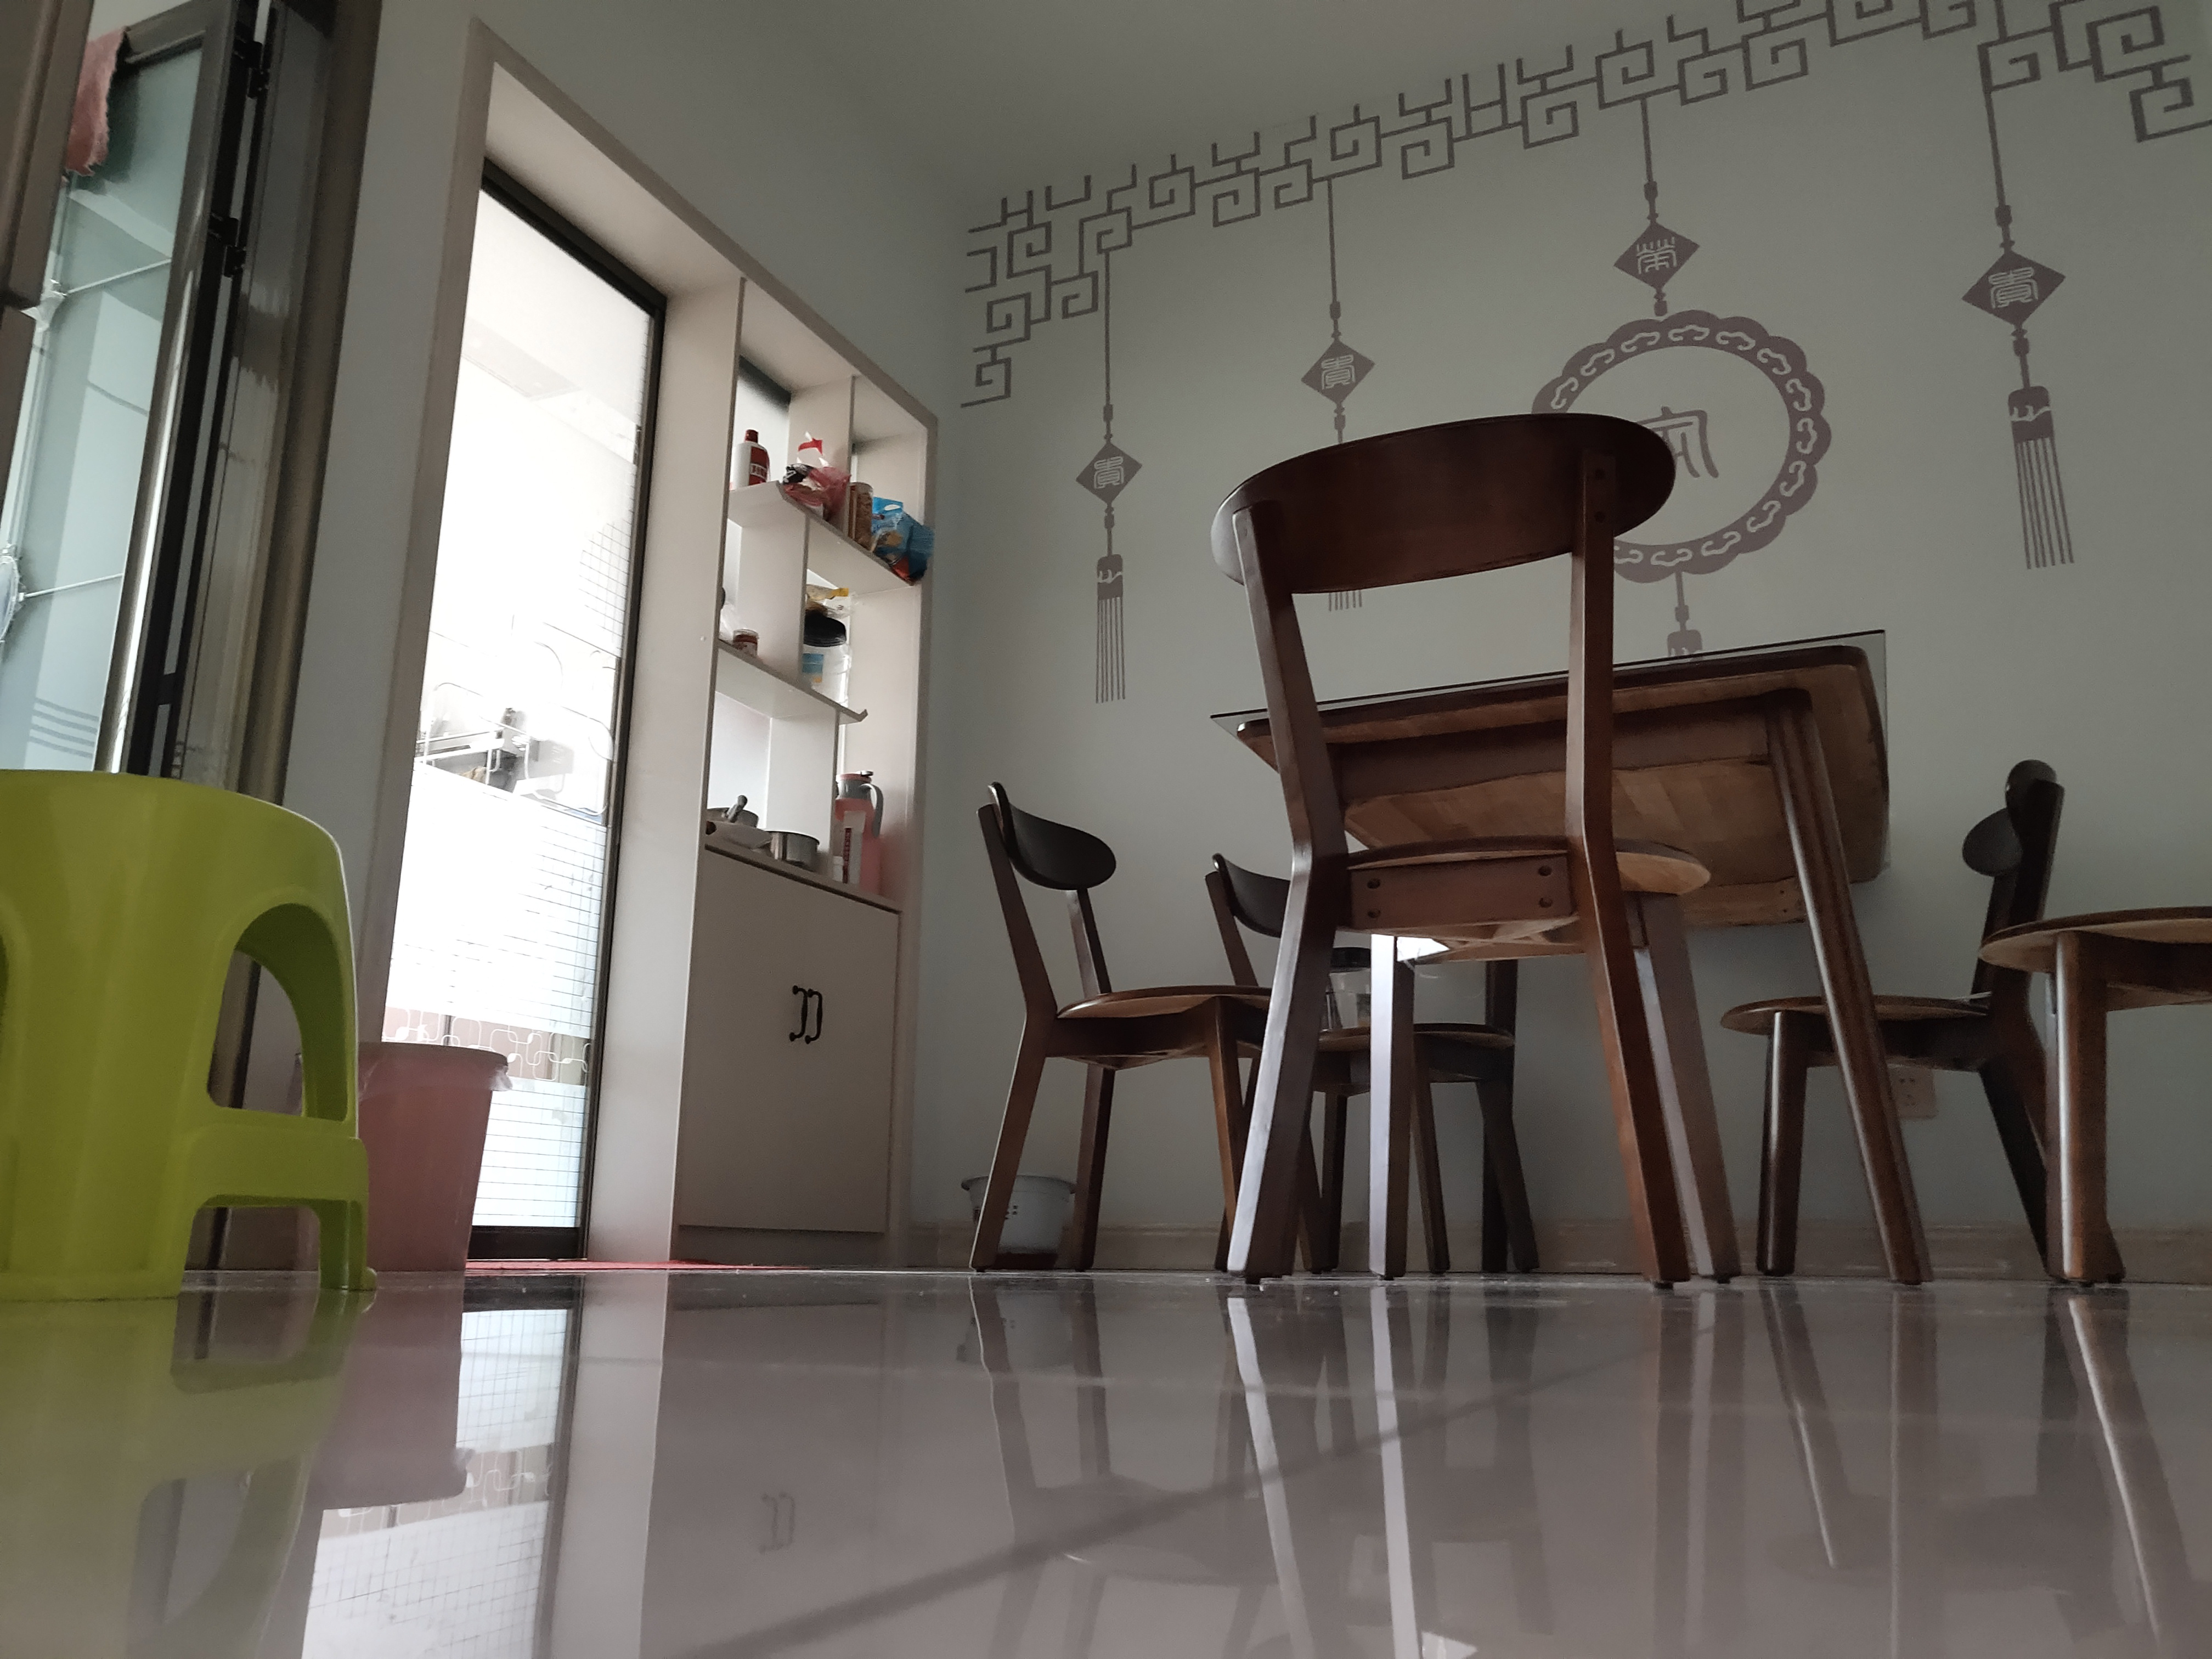cabinet: (634, 835, 899, 1260)
carpet: (460, 1249, 810, 1277)
stool: (1205, 410, 1738, 1291), (1709, 756, 2127, 1295), (3, 762, 390, 1307), (954, 775, 1339, 1286), (1197, 843, 1550, 1277), (1977, 904, 2212, 1293)
table: (1200, 624, 1937, 1291)
trashcan: (347, 1035, 514, 1274)
